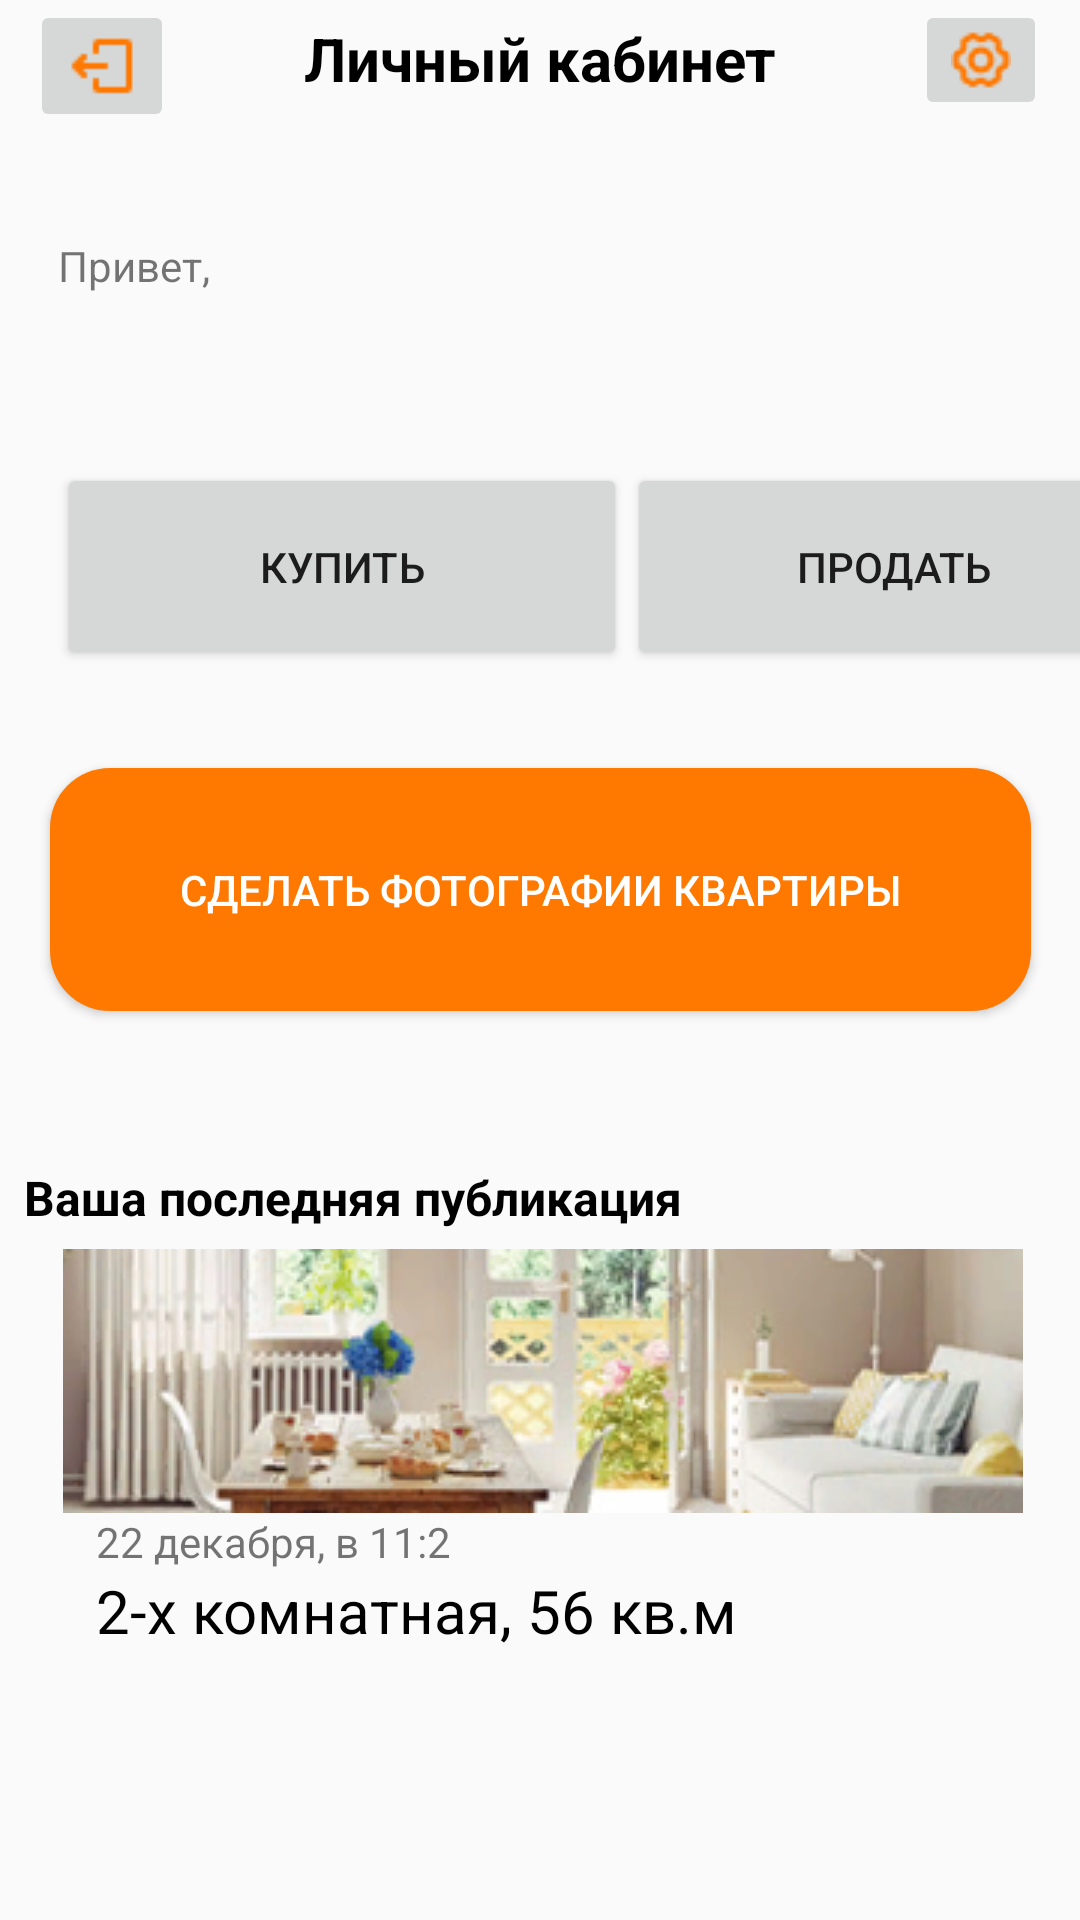

Icon bounding boxes for this 1080×1920 phone screenshot, format bbox=(x1, y1, x2, y2):
settings: bbox=(927, 18, 1035, 102)
